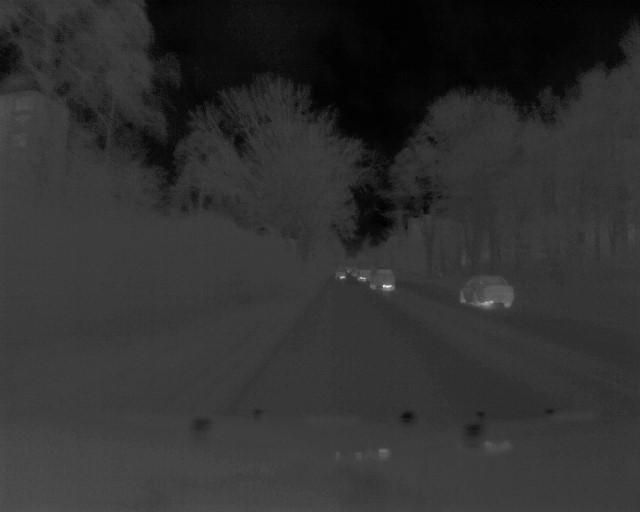car: (459, 274, 514, 311), (371, 266, 395, 292)
